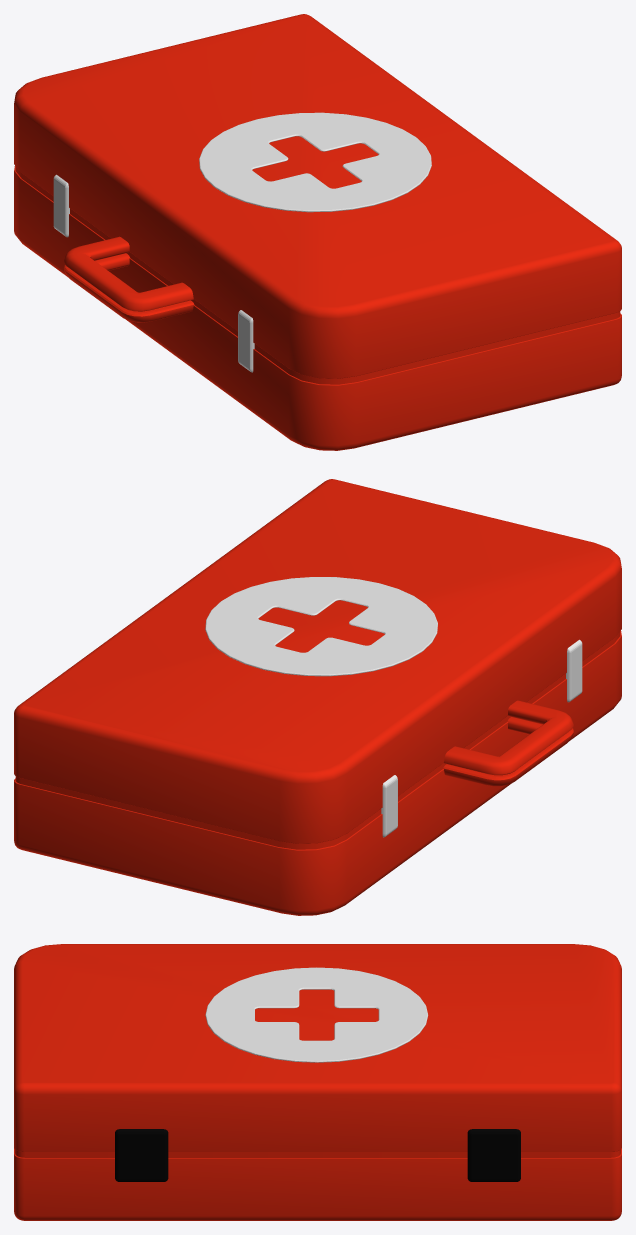
Rendered from first aid box.fbx.
3 views of the same model, one above another, from view 1: azimuth 30°, elevation 25°; view 2: azimuth 150°, elevation 25°; view 3: azimuth 270°, elevation 25° (orthographic). The views are drawn at different scales.
Parts seen in each view (by area): view 1: Cube, Circle, Cube.001, Cube.004; view 2: Cube, Circle, Cube.001, Cube.004; view 3: Cube, Circle, Cube.002.
Part boxes in pixels (x1=…): Cube: x1=14, y1=14, x2=621, y2=450; Circle: x1=199, y1=112, x2=431, y2=212; Cube.001: x1=64, y1=236, x2=194, y2=322; Cube.004: x1=53, y1=174, x2=254, y2=372; Cube: x1=14, y1=479, x2=621, y2=915; Circle: x1=205, y1=577, x2=437, y2=676; Cube.001: x1=443, y1=700, x2=573, y2=786; Cube.004: x1=381, y1=639, x2=582, y2=837; Cube: x1=14, y1=944, x2=621, y2=1220; Circle: x1=205, y1=967, x2=428, y2=1062; Cube.002: x1=115, y1=1129, x2=520, y2=1181.
Size of the model in its own units: 0.8284 by 0.3074 by 1.21.
